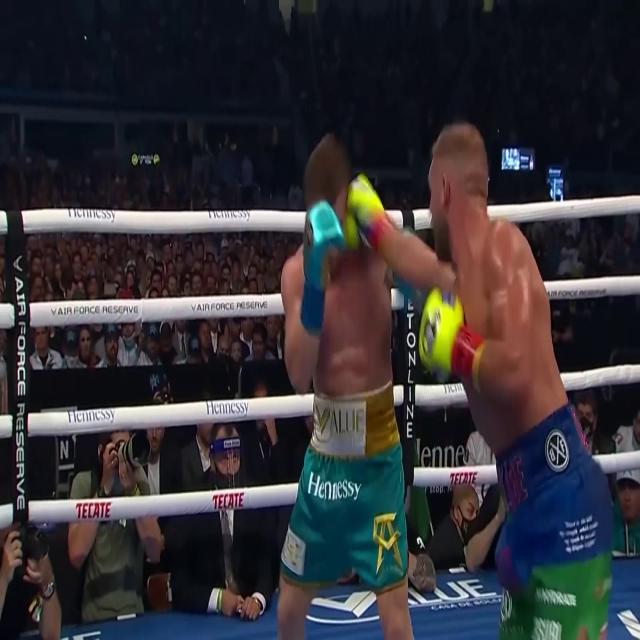boxer_1: (429, 123, 568, 455)
boxer_2: (299, 132, 393, 400)
gloves_1: (420, 287, 485, 390), (346, 175, 387, 247)
gloves_2: (301, 199, 350, 334), (395, 276, 426, 310)
